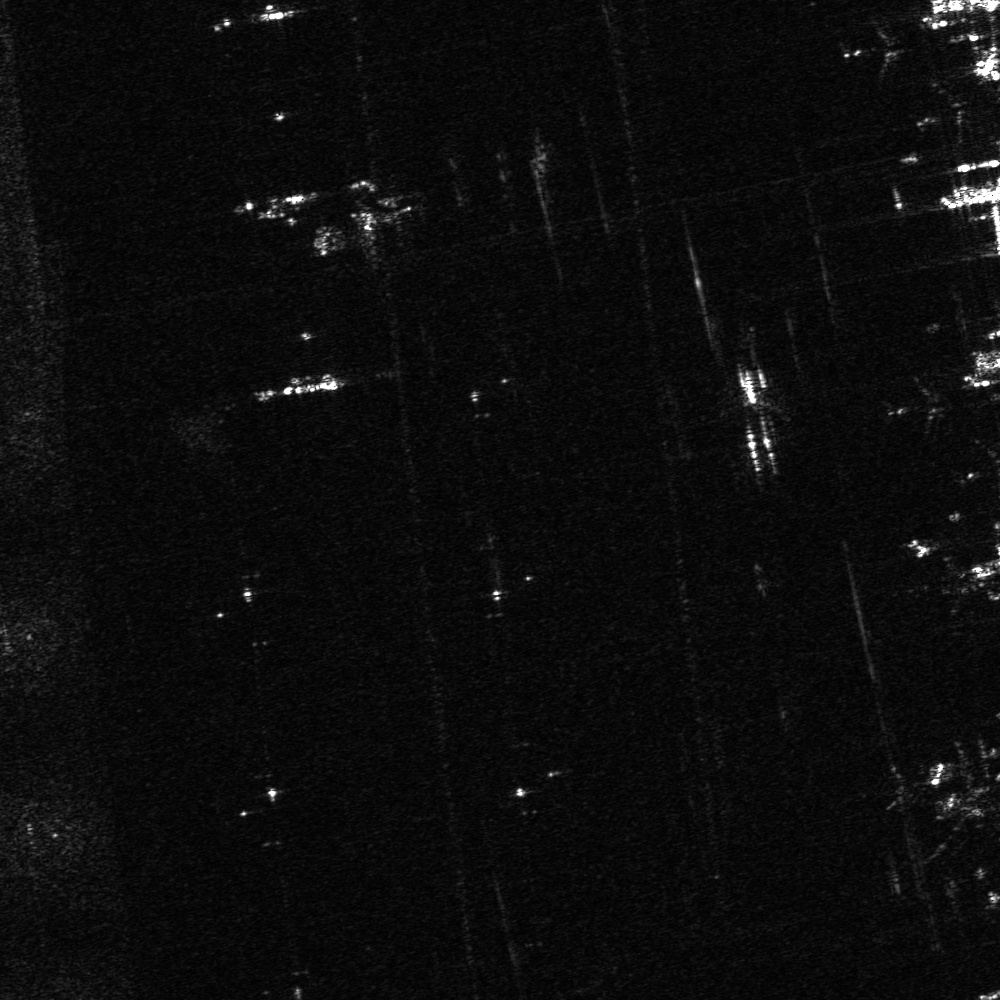Boeing787: (843, 16, 923, 84), (888, 375, 955, 438), (914, 84, 983, 141)
